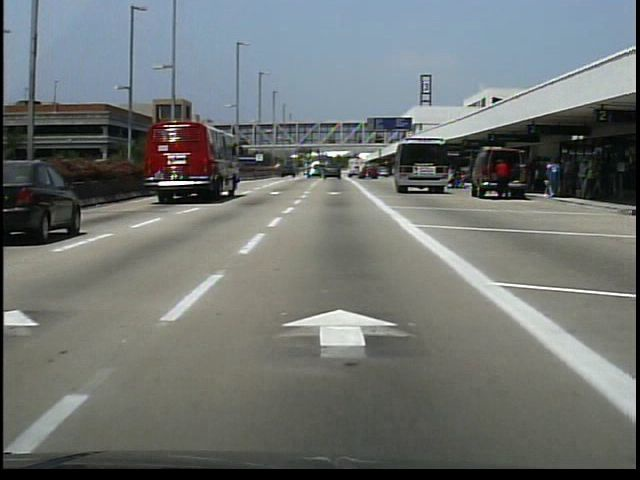person: (493, 158, 512, 206), (445, 170, 465, 195)
